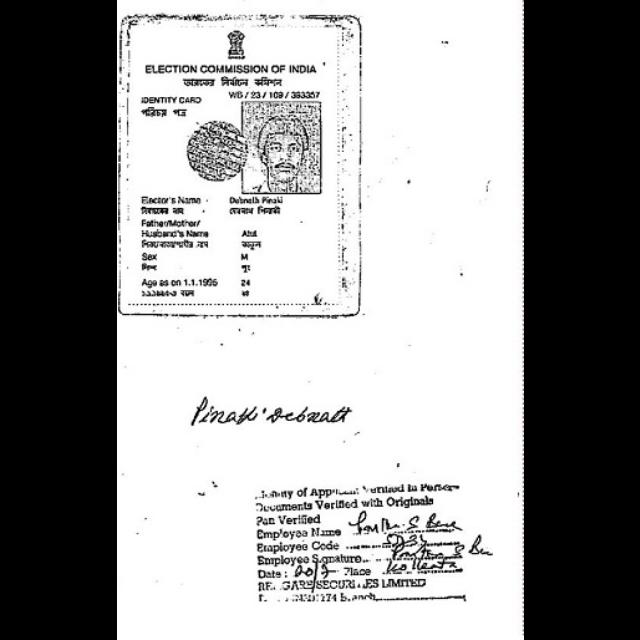voter_id: (122, 20, 348, 312)
